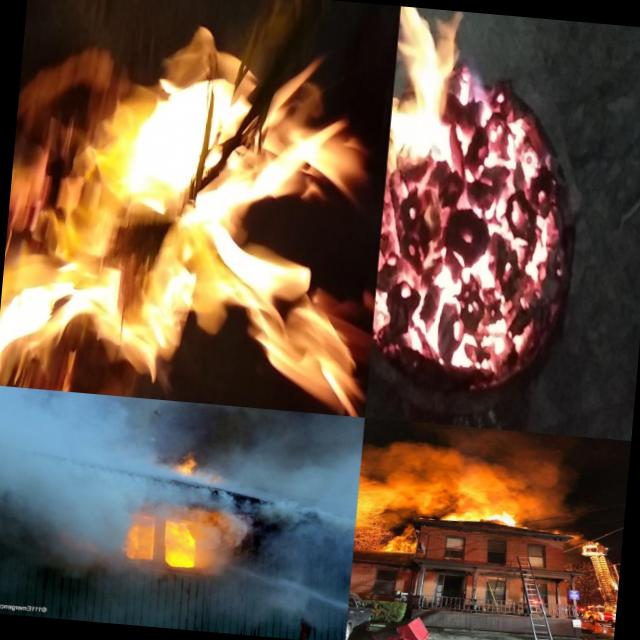fire: (0, 16, 396, 417), (435, 61, 587, 403), (368, 6, 468, 389), (119, 507, 205, 575), (438, 498, 532, 532), (382, 524, 425, 556), (172, 446, 196, 481)
smoke: (0, 389, 144, 581), (358, 420, 598, 522), (200, 479, 358, 555)
